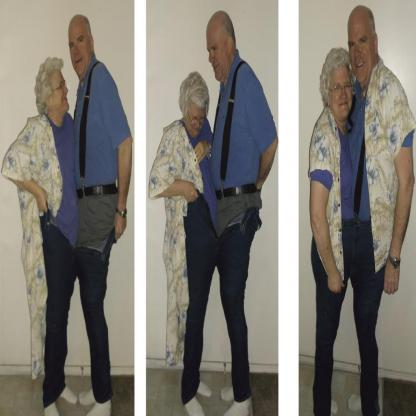face: (349, 22, 375, 84), (330, 66, 353, 119), (69, 21, 91, 75), (207, 29, 229, 82), (51, 70, 70, 112), (186, 100, 206, 138)
